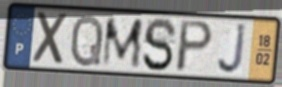J: (216, 22, 248, 77)
M: (99, 16, 145, 70)
P: (173, 18, 216, 74)
Q: (68, 13, 105, 69)
S: (141, 16, 179, 74)
X: (32, 9, 71, 68)
